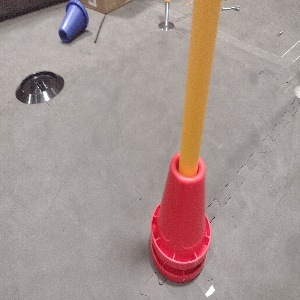Blue_1: (54, 0, 93, 46)
Red_2: (148, 143, 211, 284)
